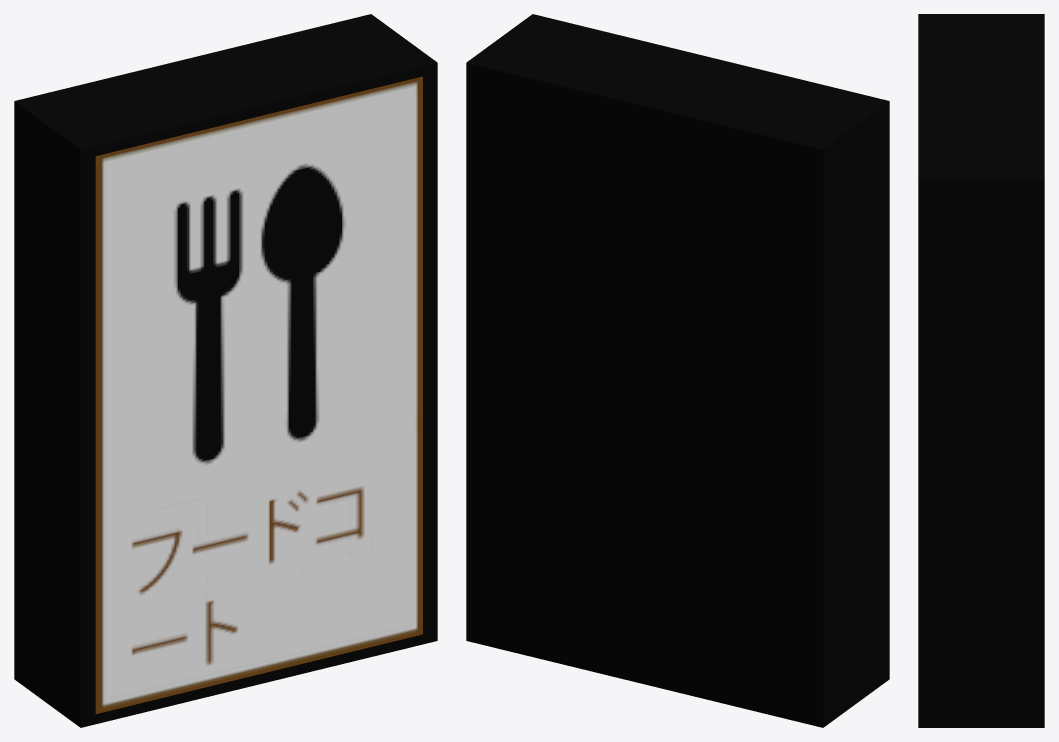
Rendered from FoodCourtCutlerySign.fbx.
3 views of the same model, side by side, from view 1: azimuth 30°, elevation 25°; view 2: azimuth 150°, elevation 25°; view 3: azimuth 270°, elevation 25° (orthographic). The views are drawn at different scales.
Visible parts, largest first — view 1: Cube; view 2: Cube; view 3: Cube.
Boxes of the visible parts, <box> form: Cube: <box>14,14,437,727</box>; Cube: <box>466,14,889,727</box>; Cube: <box>918,14,1044,727</box>.
Bounding box in the file's own units: 112 × 173 × 36.18.
